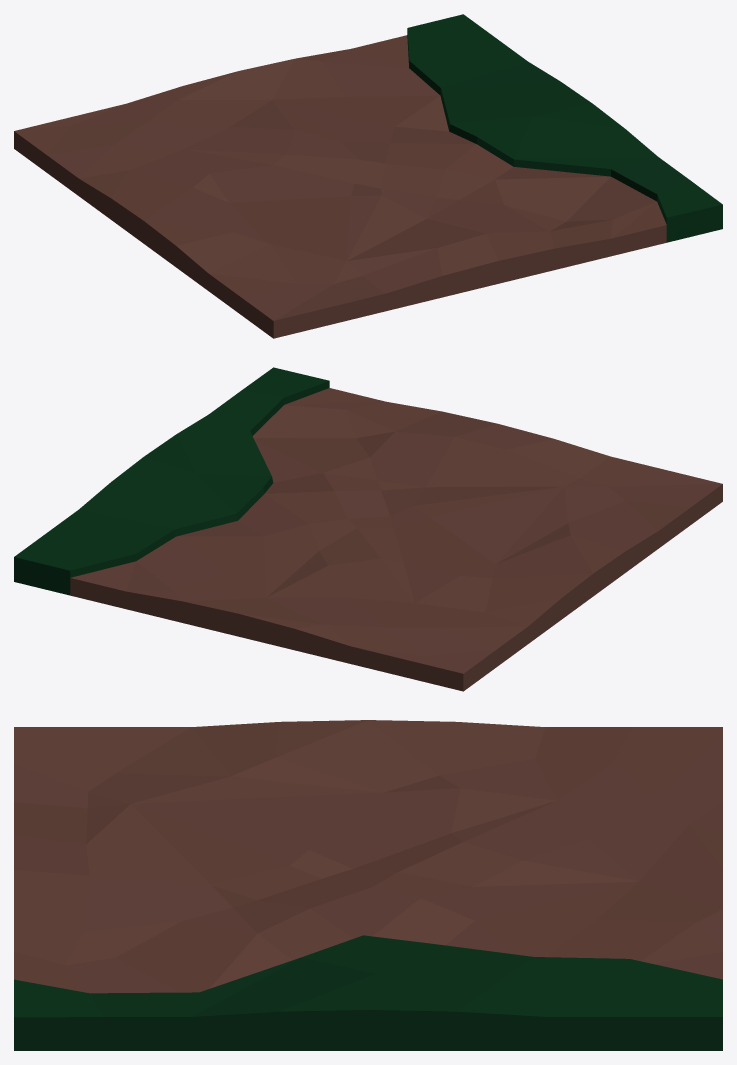
File: Mud_green.FBX
The picture shows the model from 3 angles, top to bottom: view 1: azimuth 30°, elevation 25°; view 2: azimuth 150°, elevation 25°; view 3: azimuth 270°, elevation 25°; orthographic projection. The views are drawn at different scales.
Parts seen in each view (by area): view 1: Mud_green; view 2: Mud_green; view 3: Mud_green.
Part boxes in pixels (<box>): Mud_green: <box>14,14,722,338</box>; Mud_green: <box>14,367,722,691</box>; Mud_green: <box>14,720,722,1050</box>.
Bounding box in the file's own units: 1.5 × 0.0961 × 1.5.
Materials: 1 (1 with a texture image).
